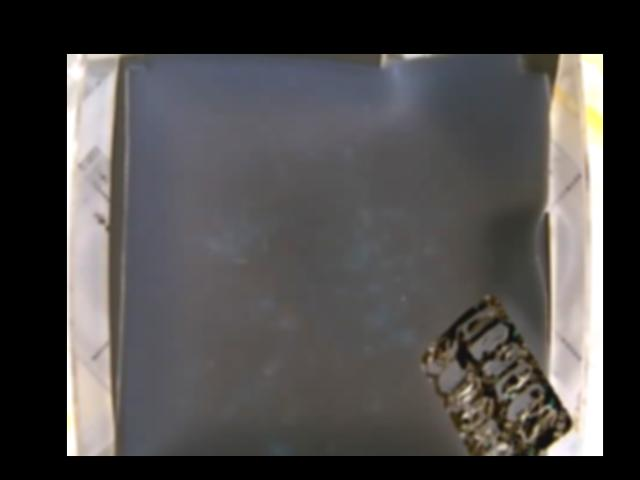Medicine: (419, 296, 573, 456)
